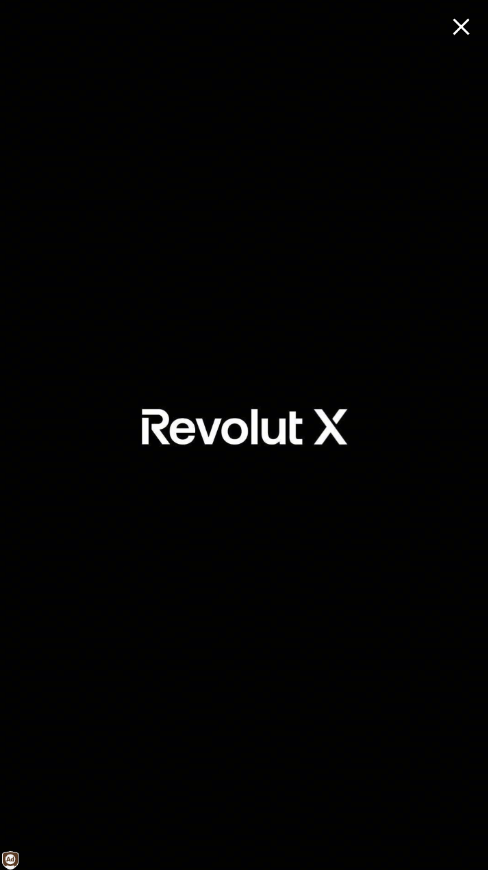close_button: (448, 16, 473, 39)
